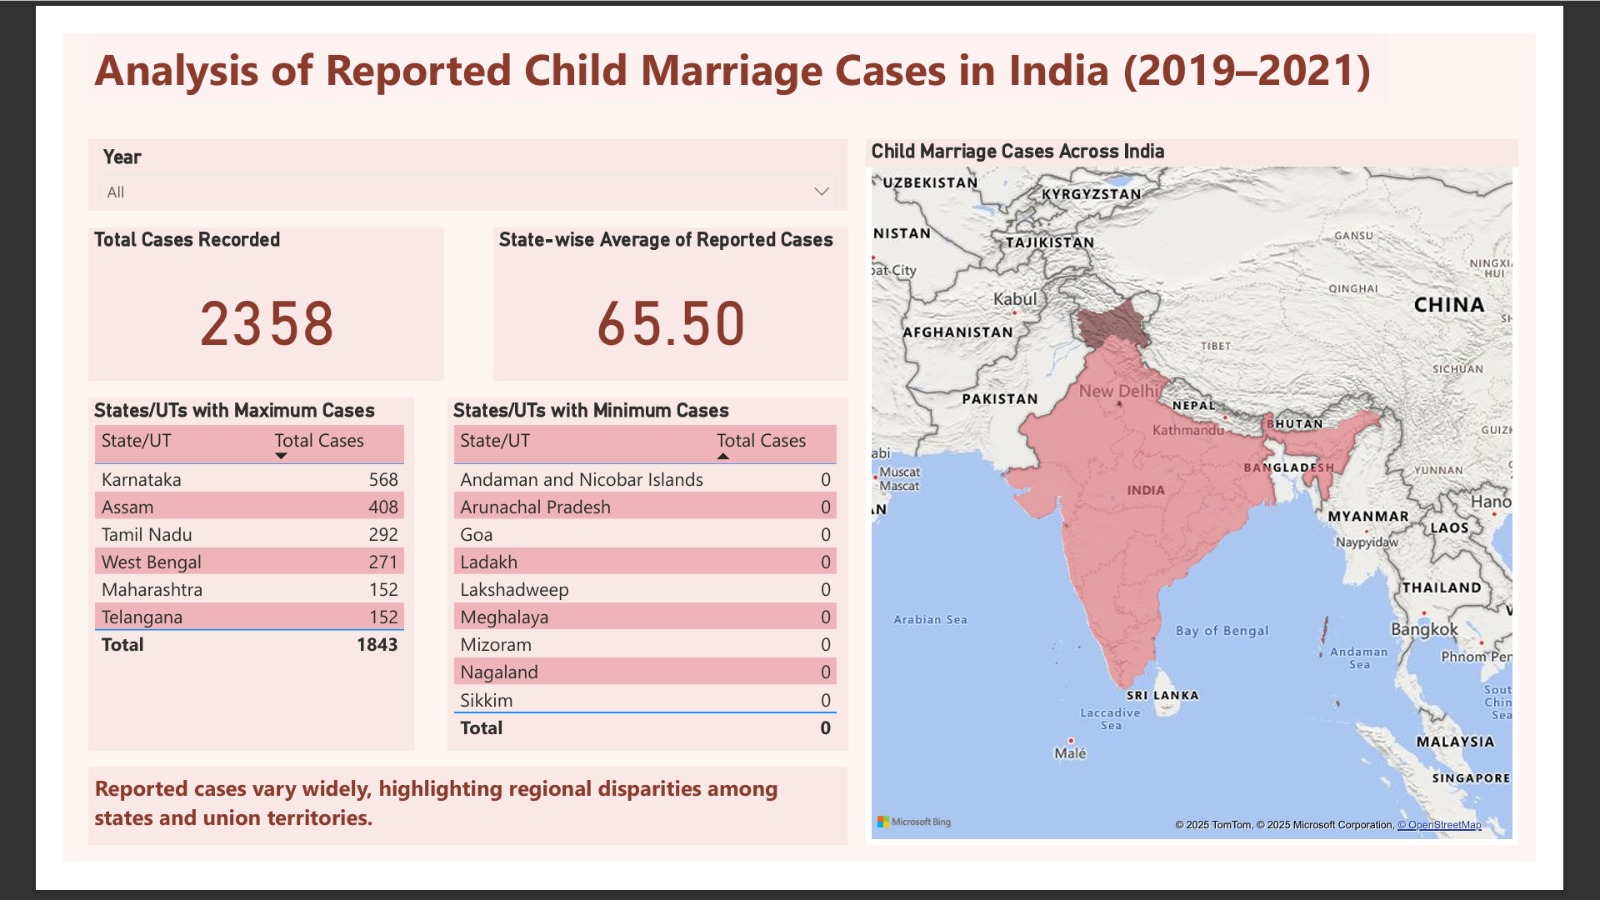

The dashboard page shown, as its layout file describes it:
{"tool":"powerbi","page":{"name":"Summary","canvas":[1280,720],"ordinal":0},"visuals":[{"type":"textbox","box":[22.3,0,1129.3,60.4],"z":0},{"type":"card","title":"Total Cases Recorded","fields":{"Values":["Child Marriage Data.Total CR"]},"box":[22.3,168.6,308.6,133.6],"z":1000},{"type":"filledMap","title":"Child Marriage Cases Across India","fields":{"Category":["Child Marriage Data.State/UT"],"Series":["Child Marriage Data.Category"]},"box":[698.3,91.7,566.7,613.3],"z":2000},{"type":"slicer","fields":{"Values":["Child Marriage Data.Year"]},"box":[22.3,92.3,660.1,62],"z":3000},{"type":"tableEx","title":"States/UTs with Maximum Cases","fields":{"Values":["Child Marriage Data.State/UT","Child Marriage Data.Total_CR"]},"box":[22.3,316.5,283.1,307],"z":4000},{"type":"tableEx","title":"States/UTs with Minimum Cases","fields":{"Values":["Child Marriage Data.State/UT","Child Marriage Data.Total_CR"]},"box":[334,316.5,348.3,307],"z":5000},{"type":"card","title":"State-wise Average of Reported Cases","fields":{"Values":["Child Marriage Data.Avg_Cases"]},"box":[373.8,168.6,308.6,133.6],"z":6000},{"type":"textbox","box":[22.3,637.8,660.1,68.4],"z":6001}]}

Visuals, with their boxes in screenshot pixels (x1, y1, x2, y2), scaled from the page's 1280x720 canvas onto the 1600x900 screenshot:
textbox: {"x1": 28, "y1": 0, "x2": 1440, "y2": 76}
"Total Cases Recorded" card: {"x1": 28, "y1": 211, "x2": 414, "y2": 378}
"Child Marriage Cases Across India" filledMap: {"x1": 873, "y1": 115, "x2": 1581, "y2": 881}
slicer - Child Marriage Data.Year: {"x1": 28, "y1": 115, "x2": 853, "y2": 193}
"States/UTs with Maximum Cases" tableEx: {"x1": 28, "y1": 396, "x2": 382, "y2": 779}
"States/UTs with Minimum Cases" tableEx: {"x1": 418, "y1": 396, "x2": 853, "y2": 779}
"State-wise Average of Reported Cases" card: {"x1": 467, "y1": 211, "x2": 853, "y2": 378}
textbox: {"x1": 28, "y1": 797, "x2": 853, "y2": 883}
